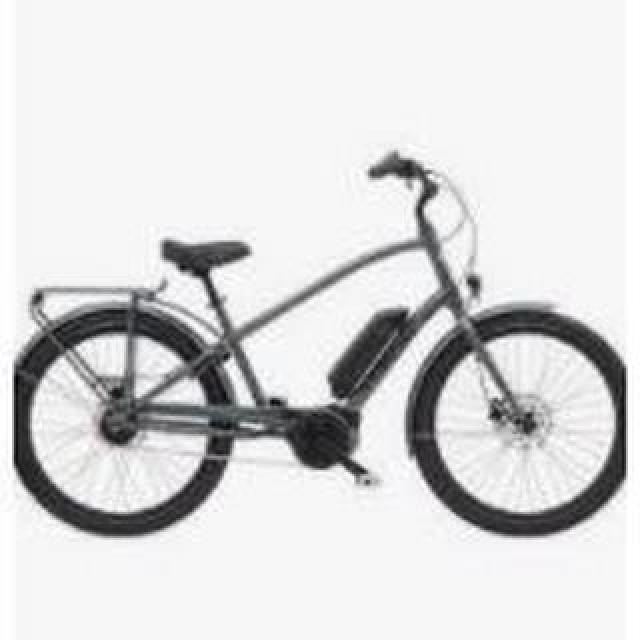Emergency Vehicles-Bike: (26, 162, 626, 546)
Person: (14, 129, 626, 535)
